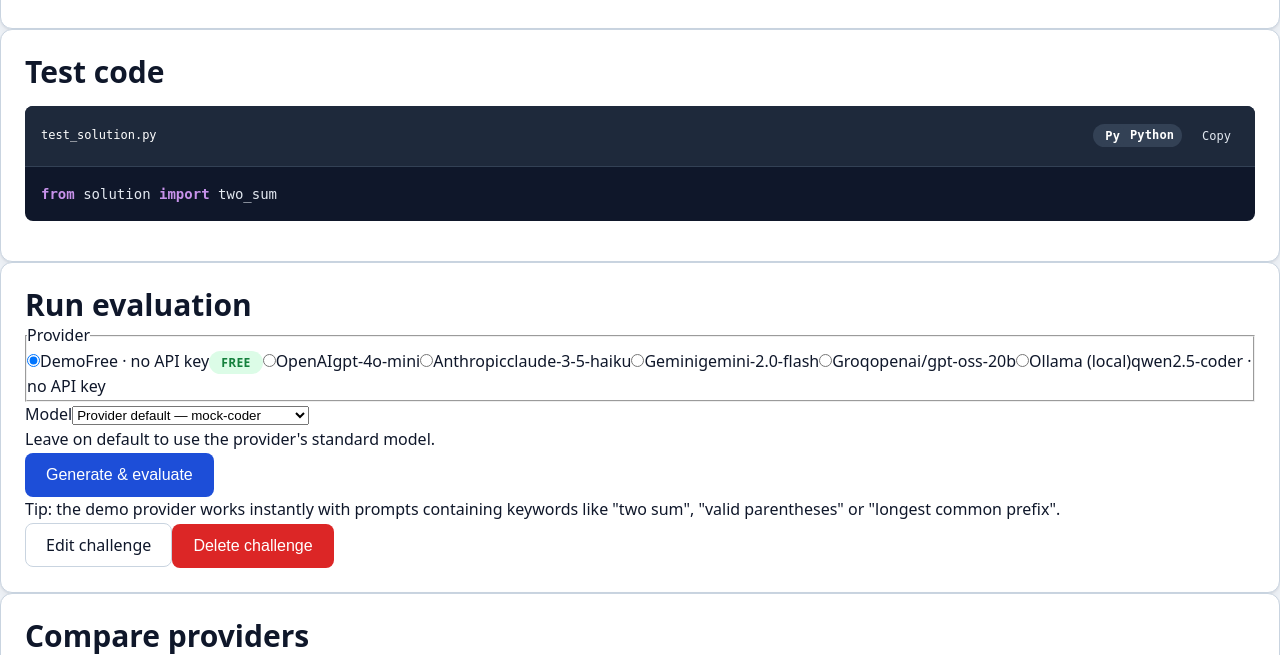
Test: ChallengeDetail › lists the selected provider's models in the dropdown
(page scrolled)
Expected: the dropdown labelled "Model" shows "Provider default — mock-coder", [72, 406, 309, 425]
Note: Switching providers swaps the option set.
Click the radio button labelled "OpenAI".
click(269, 360)  # box [263, 354, 276, 367]
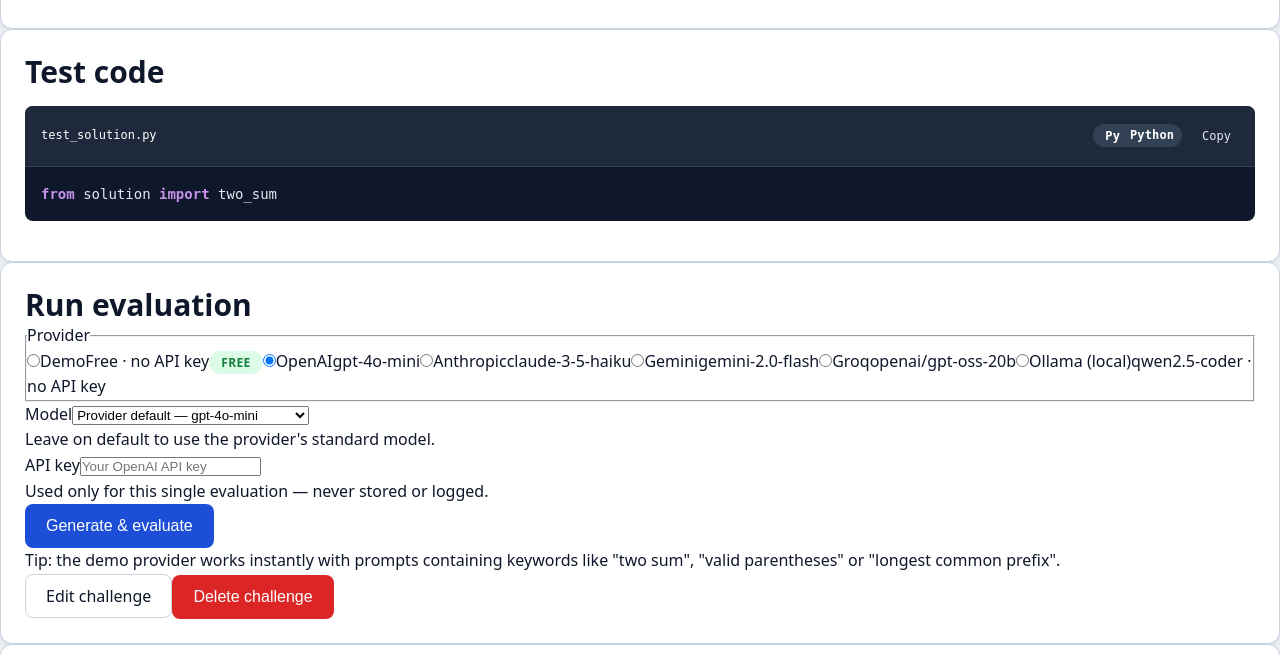
Expected: the option "Provider default — mock-coder" is not shown
Now the dropdown labelled "Model" shows "Provider default — gpt-4o-mini", box [72, 406, 309, 425]
